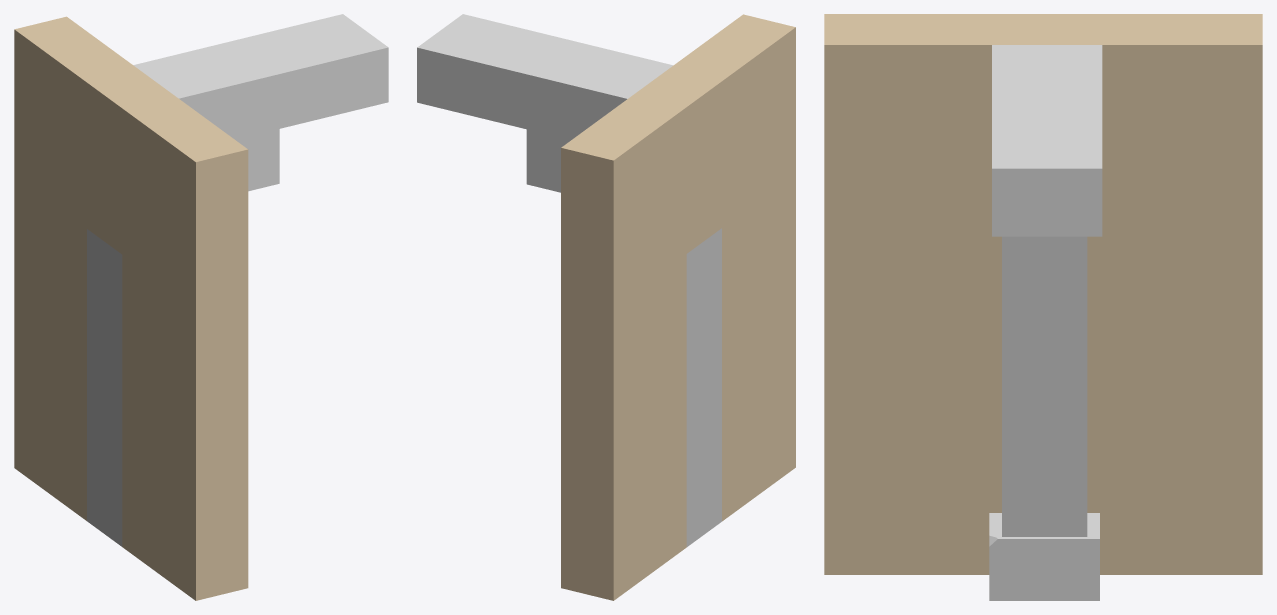
File: WallThresholdA.fbx
3 renders of one model, left to right at view 1: azimuth 30°, elevation 25°; view 2: azimuth 150°, elevation 25°; view 3: azimuth 270°, elevation 25°, orthographic. The views are drawn at different scales.
Parts seen in each view (by area): view 1: WallThresholdA; view 2: WallThresholdA; view 3: WallThresholdA.
Part boxes in pixels (<box>): WallThresholdA: <box>14,14,388,600</box>; WallThresholdA: <box>417,14,795,600</box>; WallThresholdA: <box>824,14,1262,600</box>.
Bounding box in the file's own units: 153 × 183 × 244.
